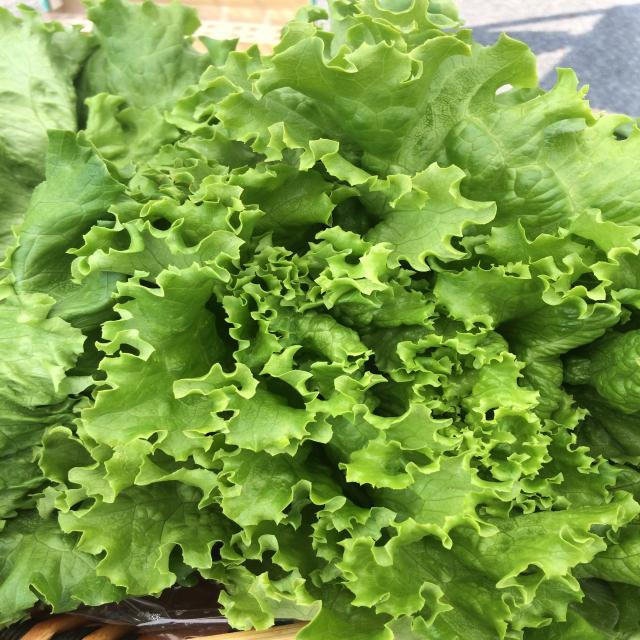Lettuce head: (0, 0, 640, 612)
